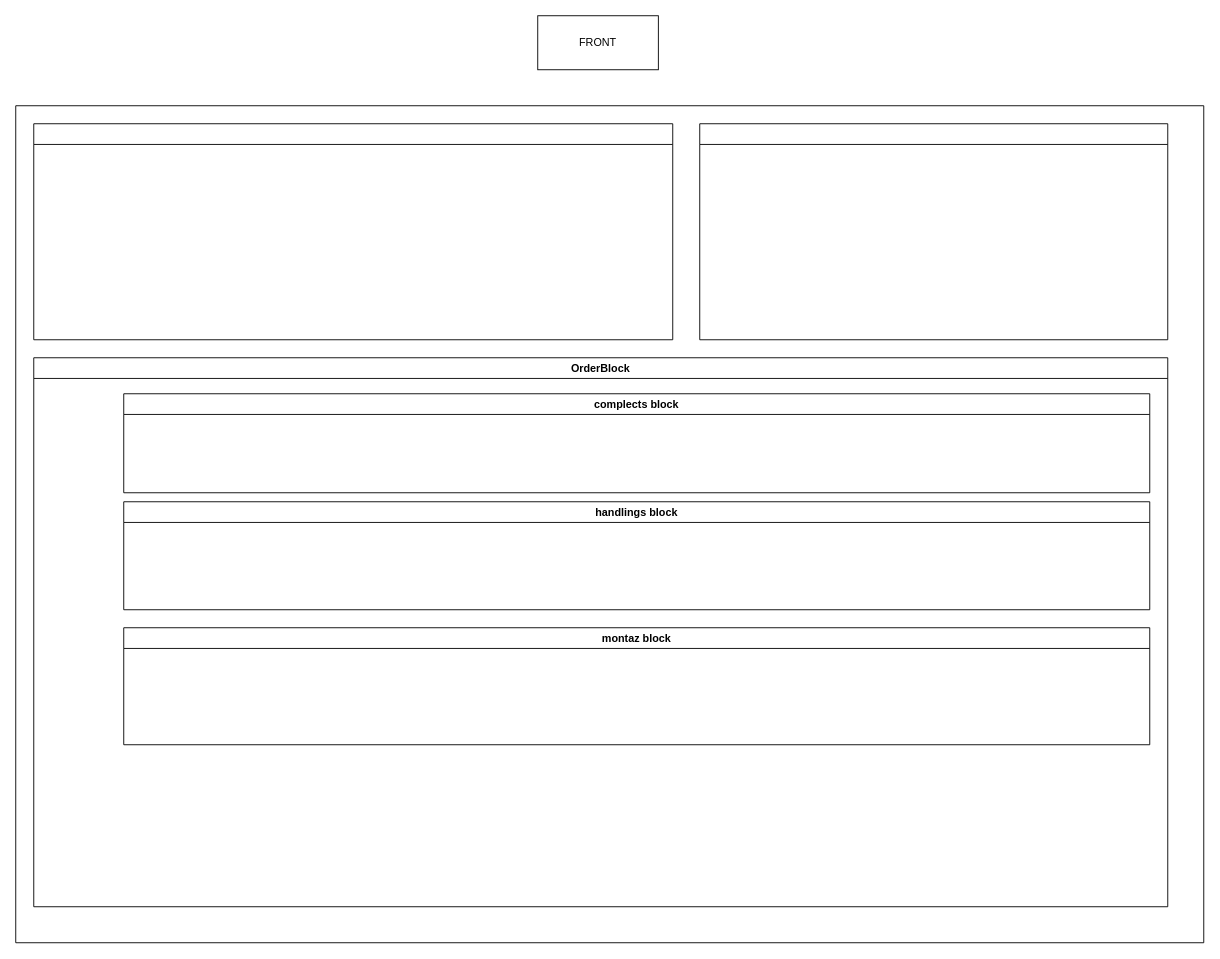
This 1220x959 diagram has some shape labels left out. The shapes that lost their labels are listed below. From the top down, each one's centre as x and y in pixels, then its label:
At point 353,231: "customer block".
At point 933,231: "calculation block".
